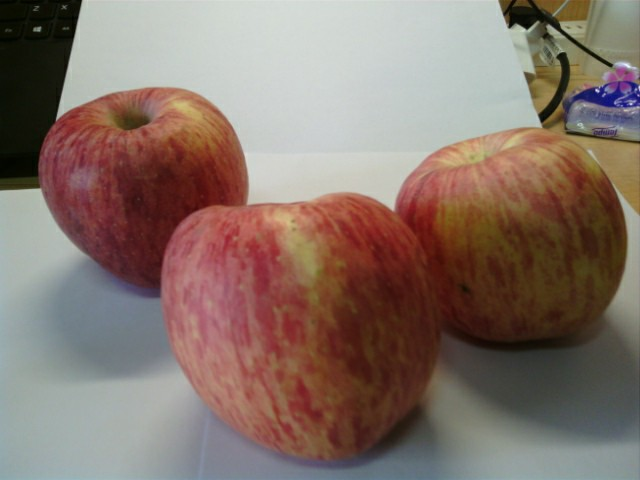normal_apple: (163, 193, 439, 462), (396, 127, 631, 349), (36, 86, 251, 284)
